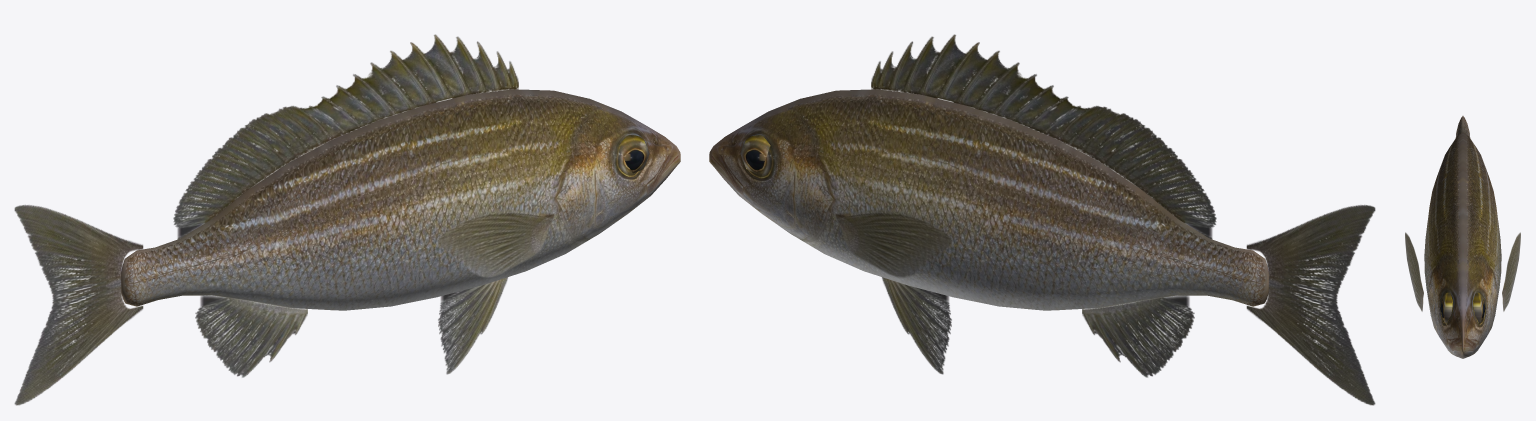
File: isaki_young_lo.glb
The picture shows the model from 3 angles, left to right: view 1: azimuth 30°, elevation 25°; view 2: azimuth 150°, elevation 25°; view 3: azimuth 270°, elevation 25°; orthographic projection. The views are drawn at different scales.
Visible parts, largest first — view 1: isaki_young; view 2: isaki_young; view 3: isaki_young.
Boxes of the visible parts, x1,y1,x2,y2 form: isaki_young: (14,34,680,405); isaki_young: (709,34,1375,405); isaki_young: (1405,116,1520,358).
Size of the model in its own units: 0.2504 by 0.1233 by 0.0503.
1 material, 1 textured.
